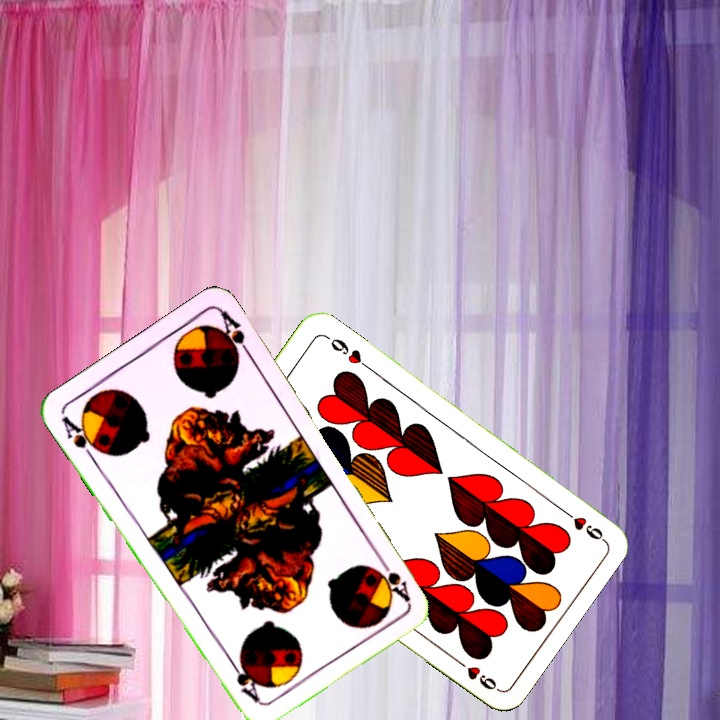H9: (555, 503, 606, 543)
SA: (57, 411, 106, 464), (373, 551, 413, 604)
